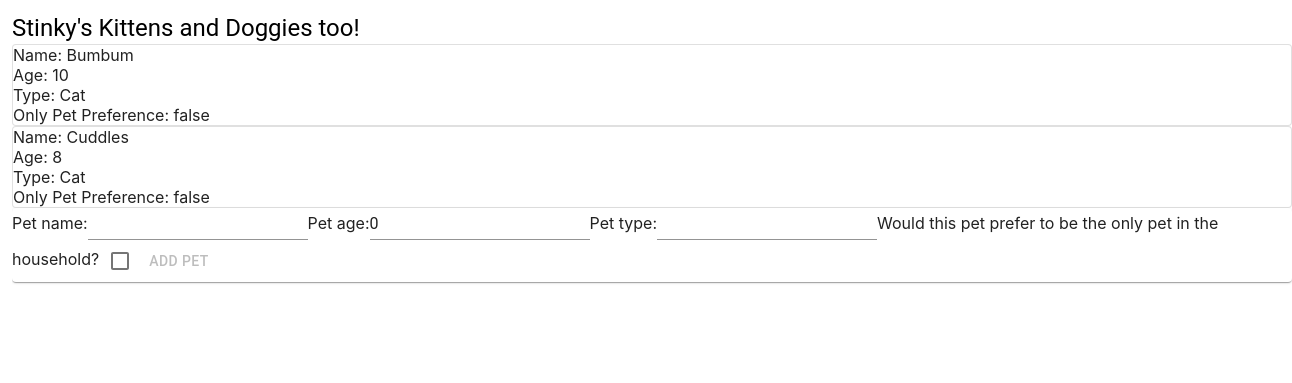
Application › should allow for the creation of pets
Type "Lucy" into the field labelled "Pet name:". click: {"x": 198, "y": 224}
box: [88,208,308,240]
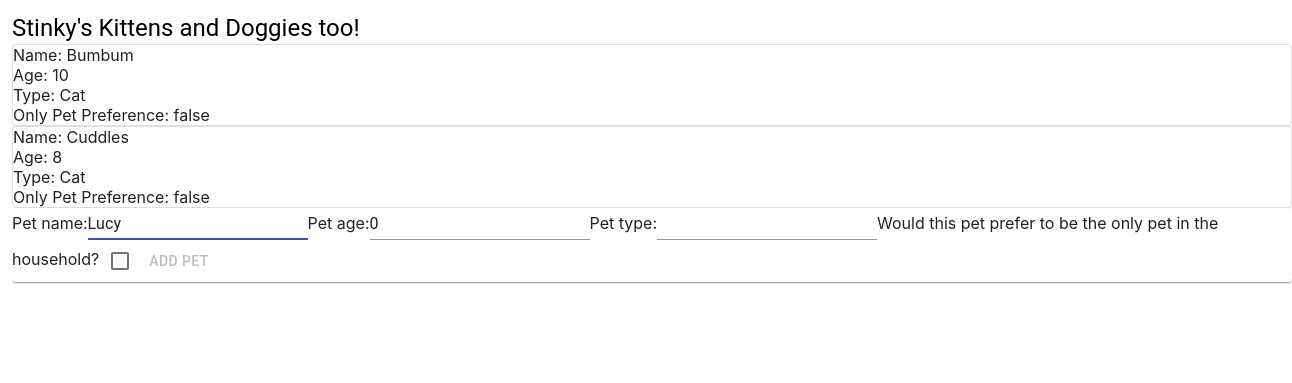
Type "2" into the field labelled "Pet age:". click: {"x": 480, "y": 224}
box: [370,208,590,240]
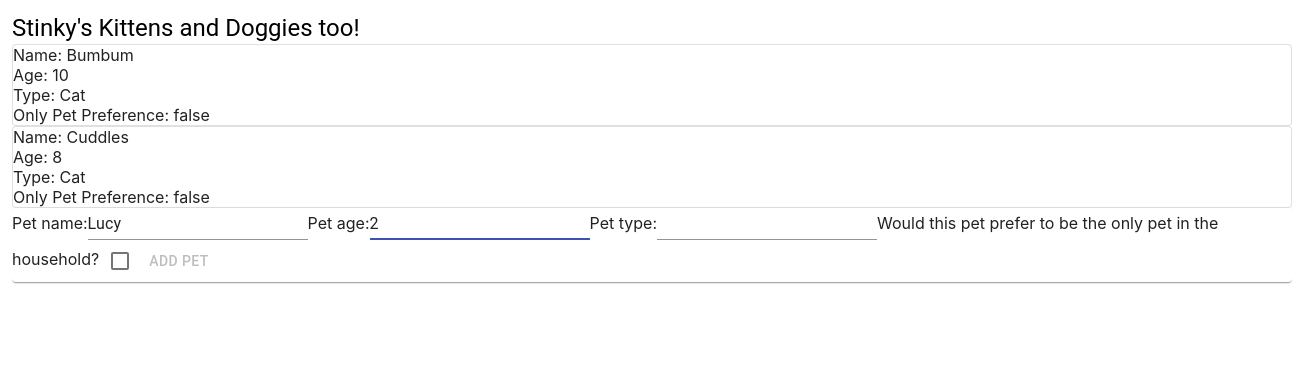
Type "Dog" into the field labelled "Pet type:". click: {"x": 767, "y": 224}
box: [657,208,877,240]
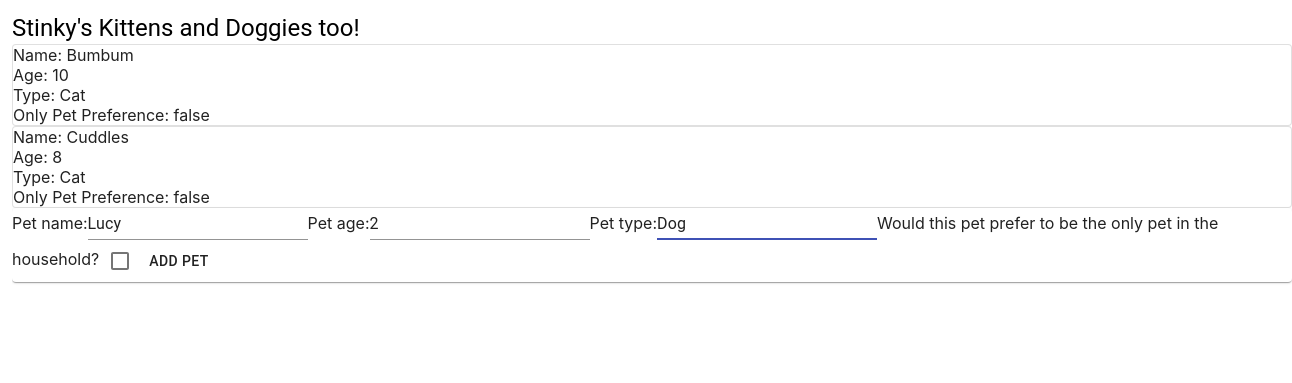
Click the checkbox labelled "Would this pet prefer to be the only pet in the household?". click: {"x": 1048, "y": 223}
box: [12,213,1218,269]
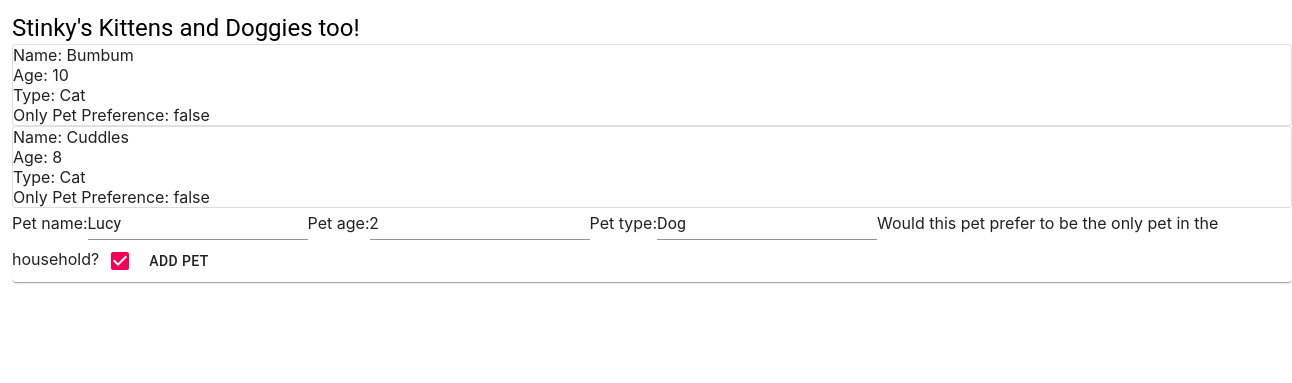
Click the button "Add Pet". click: {"x": 179, "y": 261}
box: [141,243,217,279]
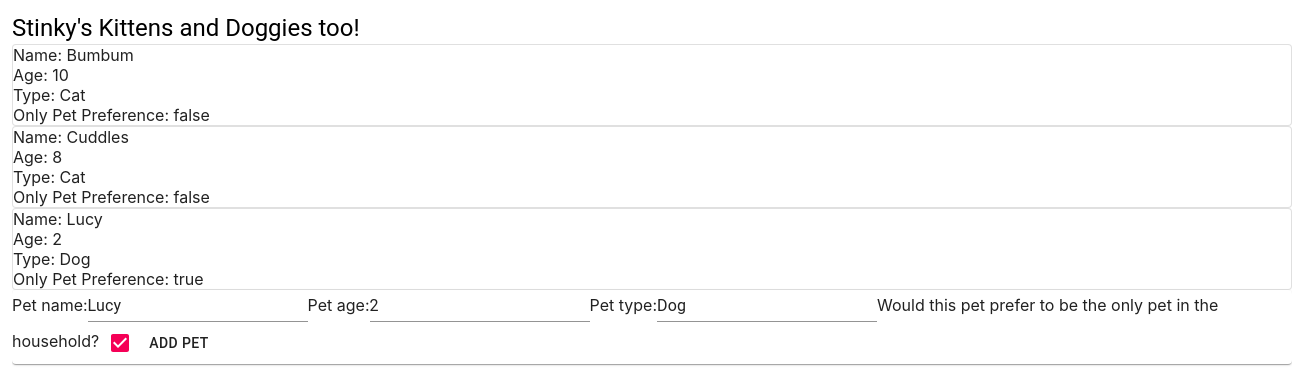
Now the text "Lucy" is shown, box [66,209,103,229]
